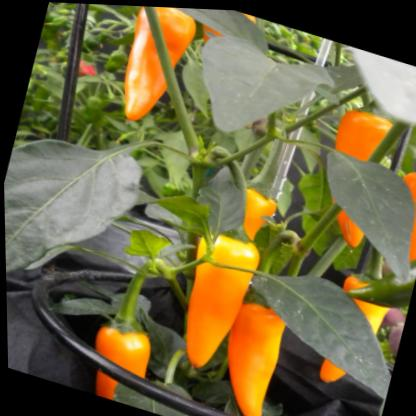chilli_pepper: (150, 142, 288, 395), (98, 3, 219, 136)
